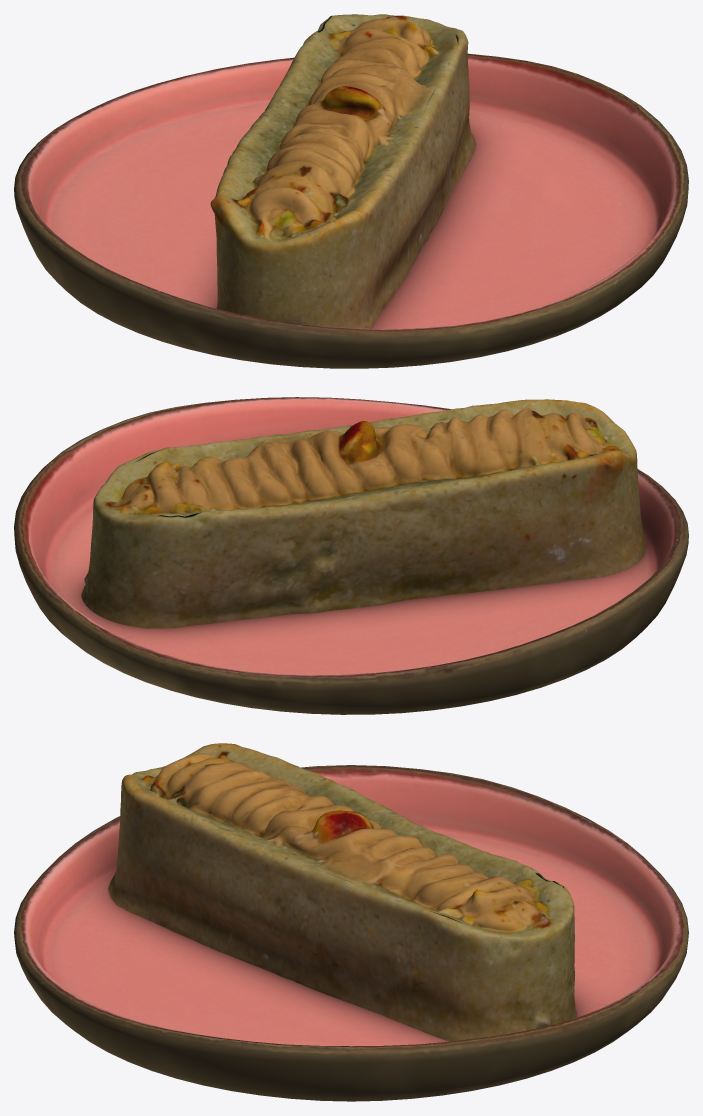
Rendered from 03_Financier_pistache.glb.
3 views of the same model, one above another, from view 1: azimuth 30°, elevation 25°; view 2: azimuth 150°, elevation 25°; view 3: azimuth 270°, elevation 25° (orthographic).
Parts seen in each view (by area): view 1: 03_Financier pistache; view 2: 03_Financier pistache; view 3: 03_Financier pistache.
Boxes of the visible parts, x1,y1,x2,y2 form: 03_Financier pistache: [14, 14, 688, 368]; 03_Financier pistache: [14, 397, 688, 714]; 03_Financier pistache: [14, 743, 688, 1101].
Bounding box in the file's own units: 0.3931 × 0.1016 × 0.3898.
1 material, 1 textured.
